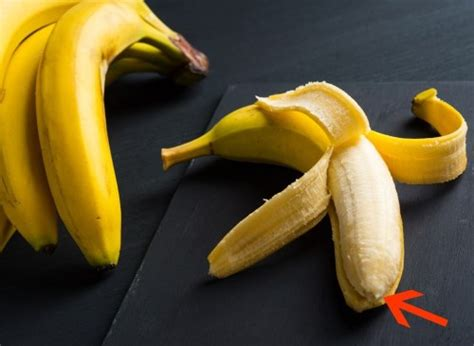banana: (34, 1, 180, 275)
